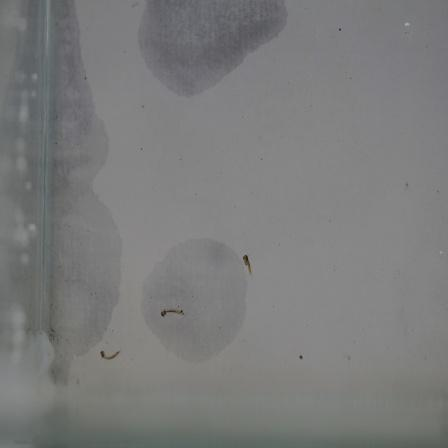Jentik-Nyamuk: (97, 343, 125, 366), (159, 304, 187, 325), (239, 251, 256, 280)
